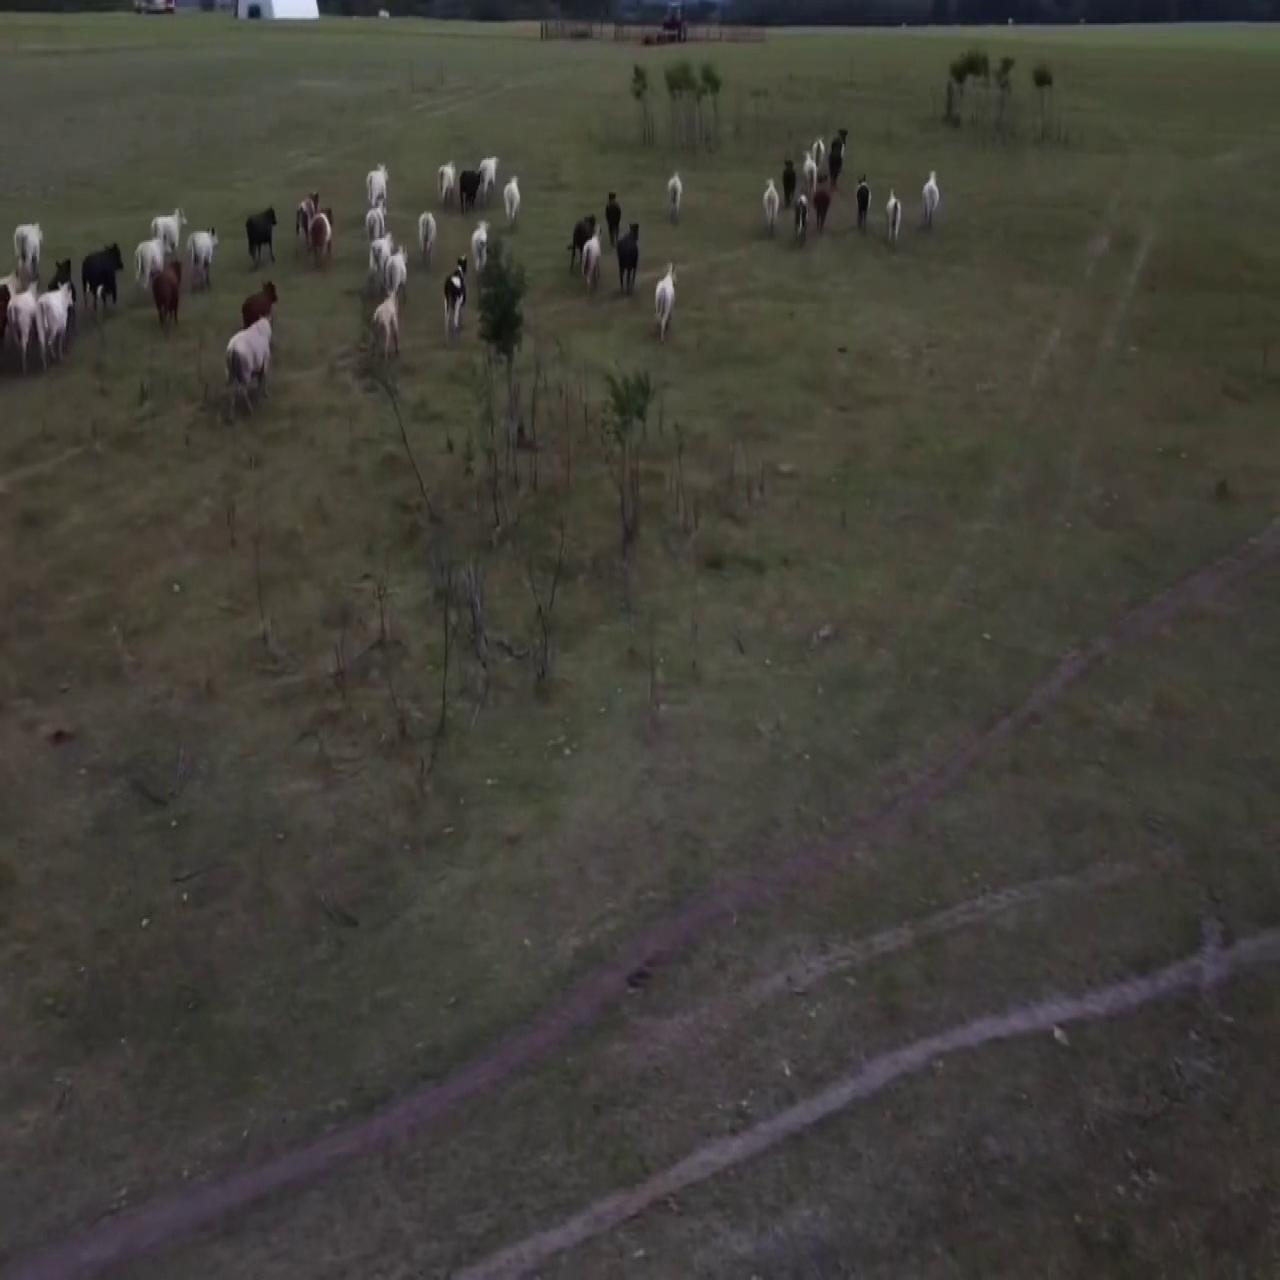cow: (225, 315, 280, 429), (74, 237, 131, 320), (152, 253, 190, 349), (369, 291, 409, 379), (40, 282, 76, 377), (185, 225, 226, 307), (241, 200, 281, 266), (9, 220, 47, 282), (440, 257, 467, 341), (615, 215, 644, 295), (651, 263, 678, 345), (132, 222, 161, 295), (306, 202, 336, 265), (151, 196, 184, 251), (563, 196, 590, 257), (359, 158, 392, 207), (917, 159, 941, 224), (476, 137, 498, 207), (578, 230, 605, 287), (367, 234, 394, 292), (384, 241, 411, 297), (498, 175, 522, 237), (416, 211, 438, 273), (851, 176, 873, 234), (761, 171, 778, 238), (666, 163, 686, 218), (459, 152, 478, 206), (471, 220, 489, 278), (440, 155, 456, 216), (365, 203, 392, 238), (881, 189, 899, 240)
